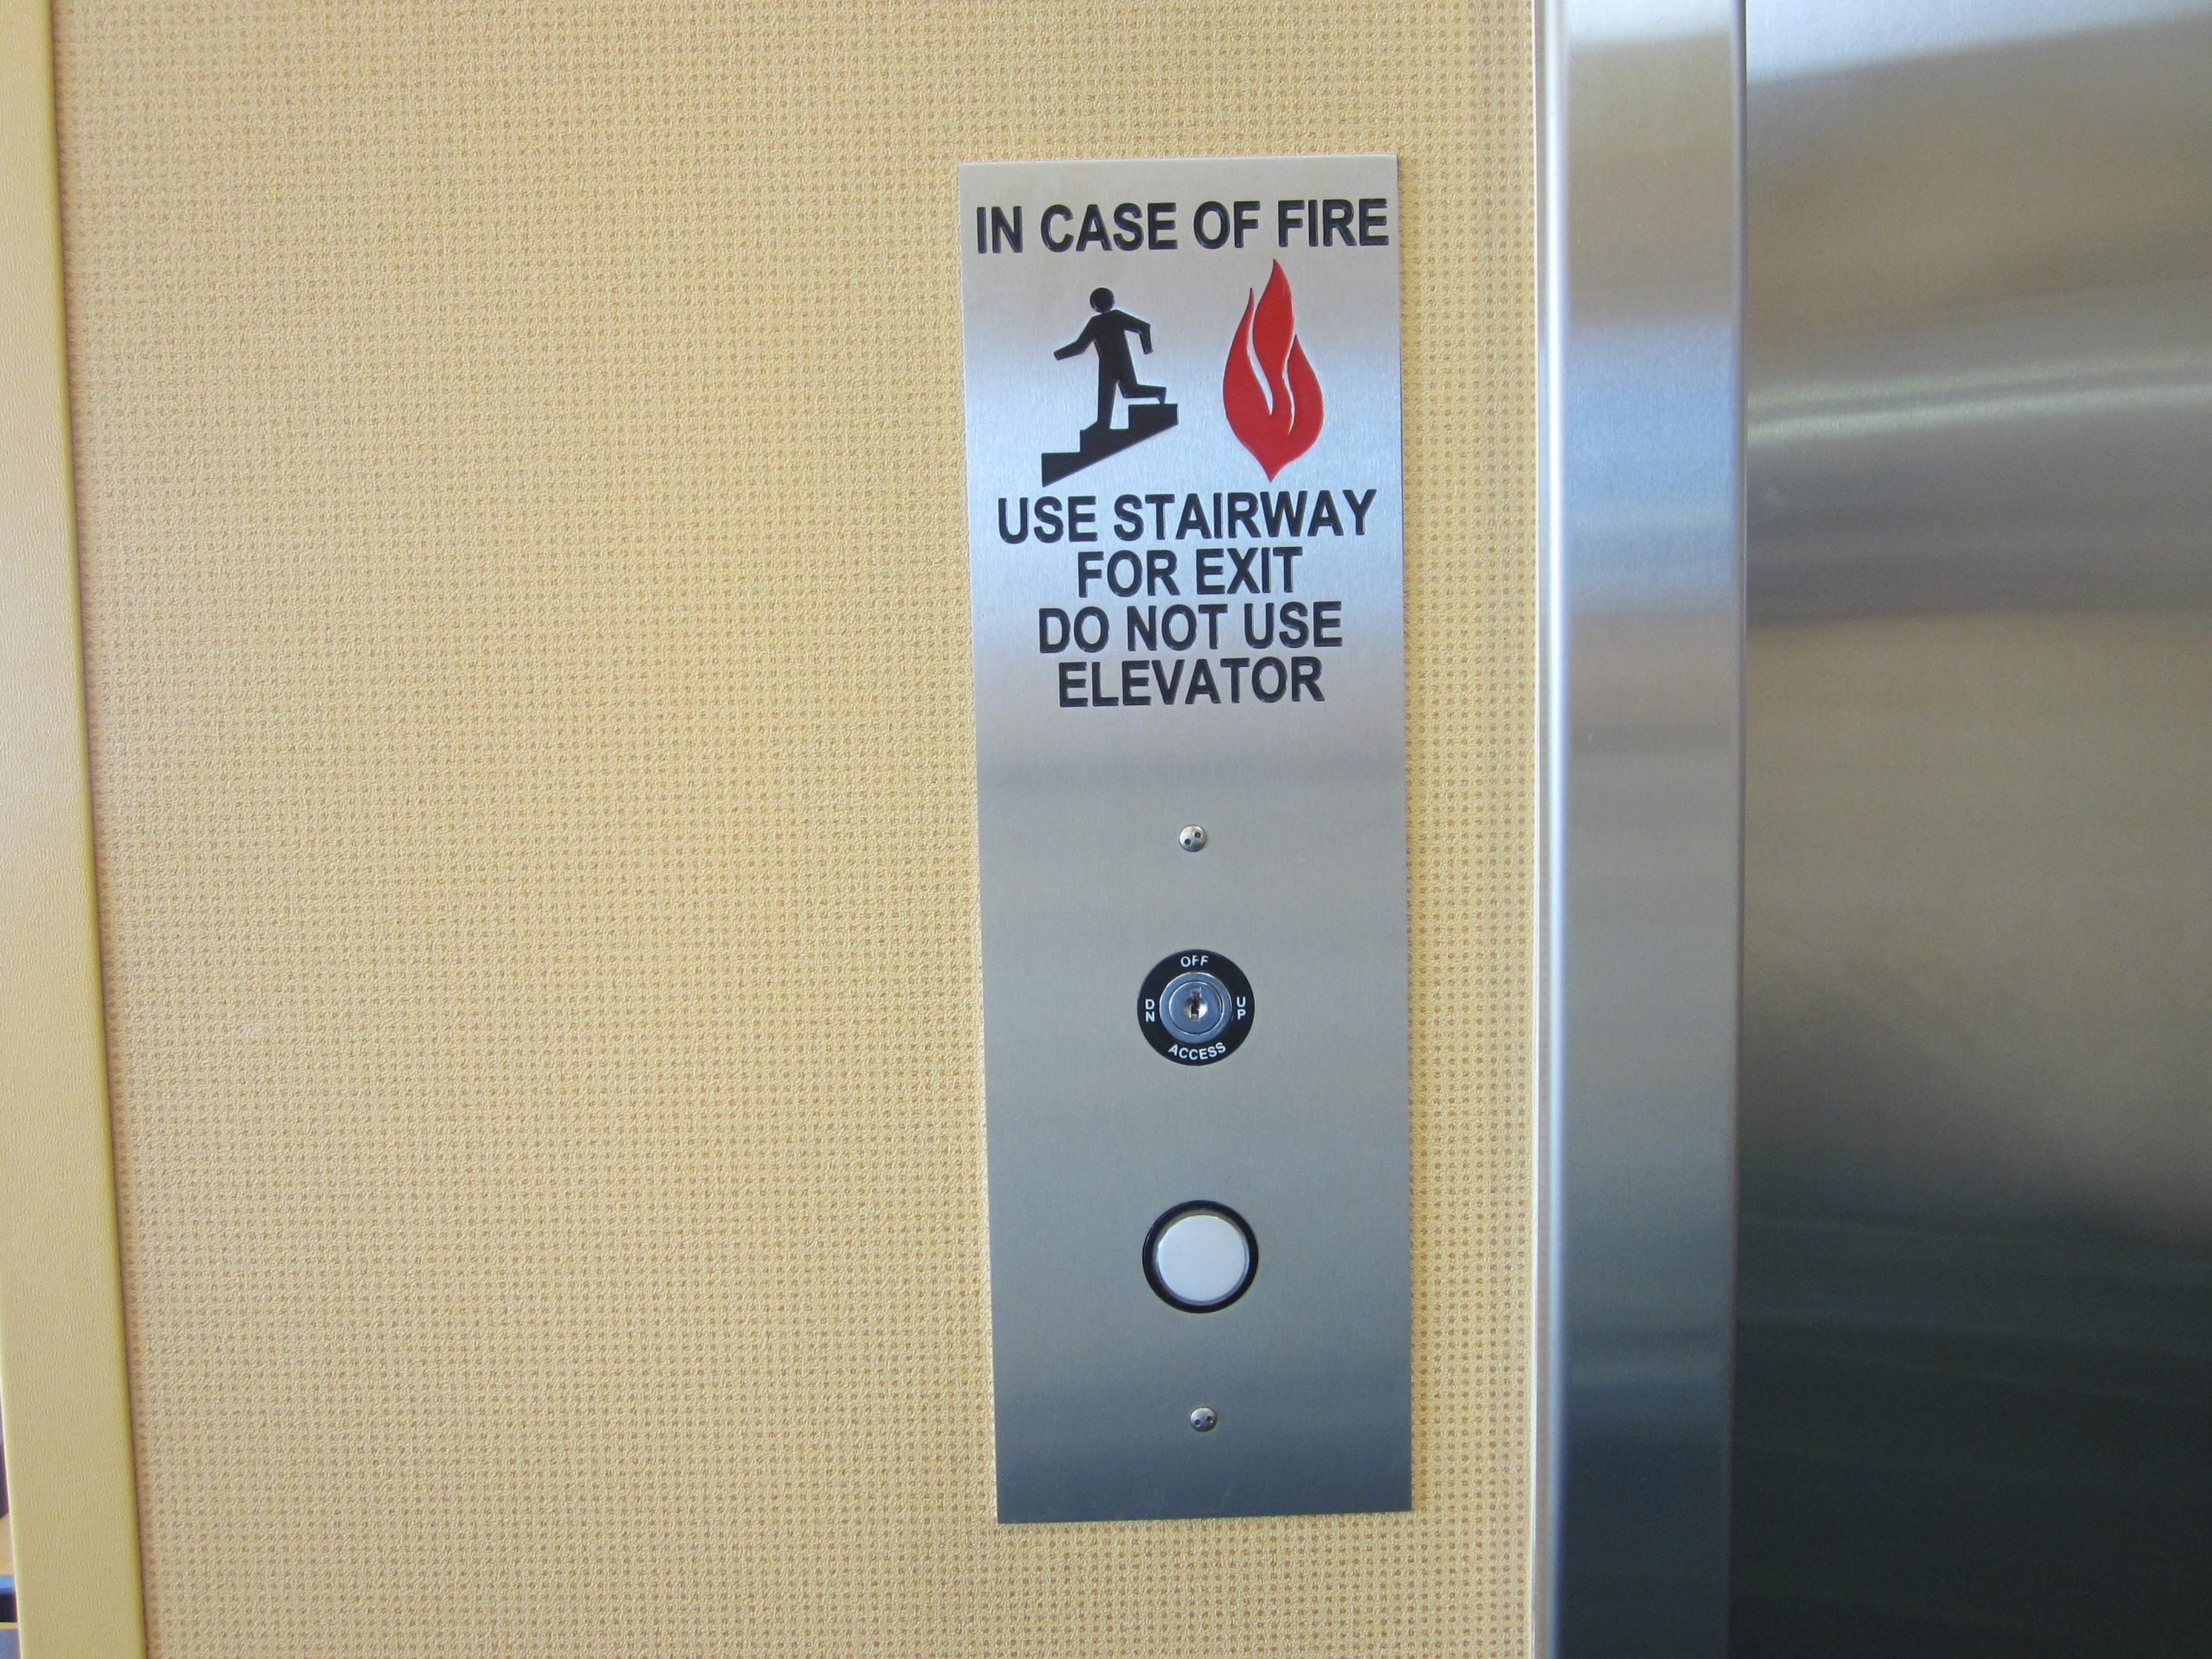empty: (1132, 1190, 1268, 1319)
keyhole: (1125, 941, 1264, 1070)
